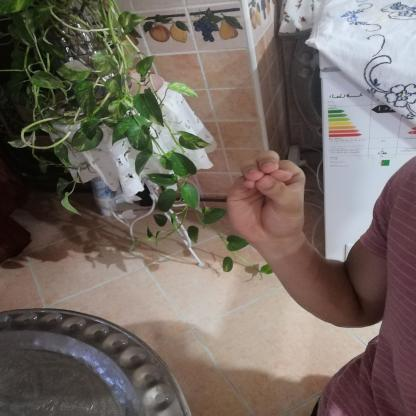HA: (210, 140, 323, 258)
